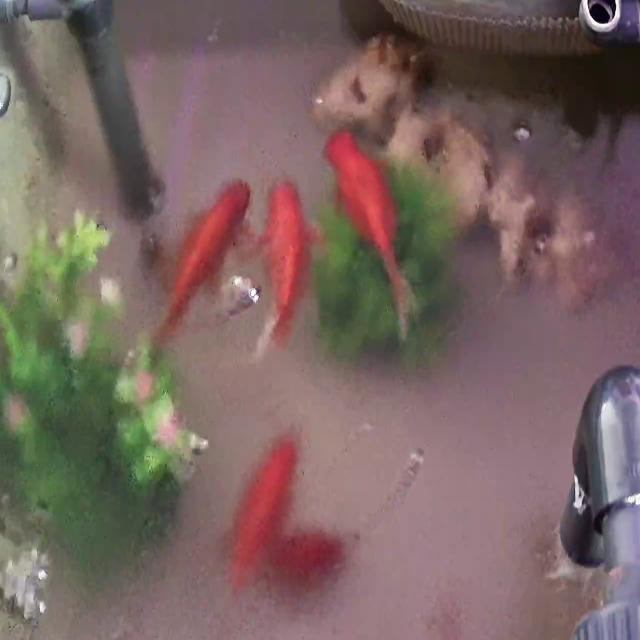fish: (327, 130, 411, 342), (151, 178, 252, 350), (226, 432, 299, 594), (255, 178, 313, 357), (264, 527, 344, 588)
